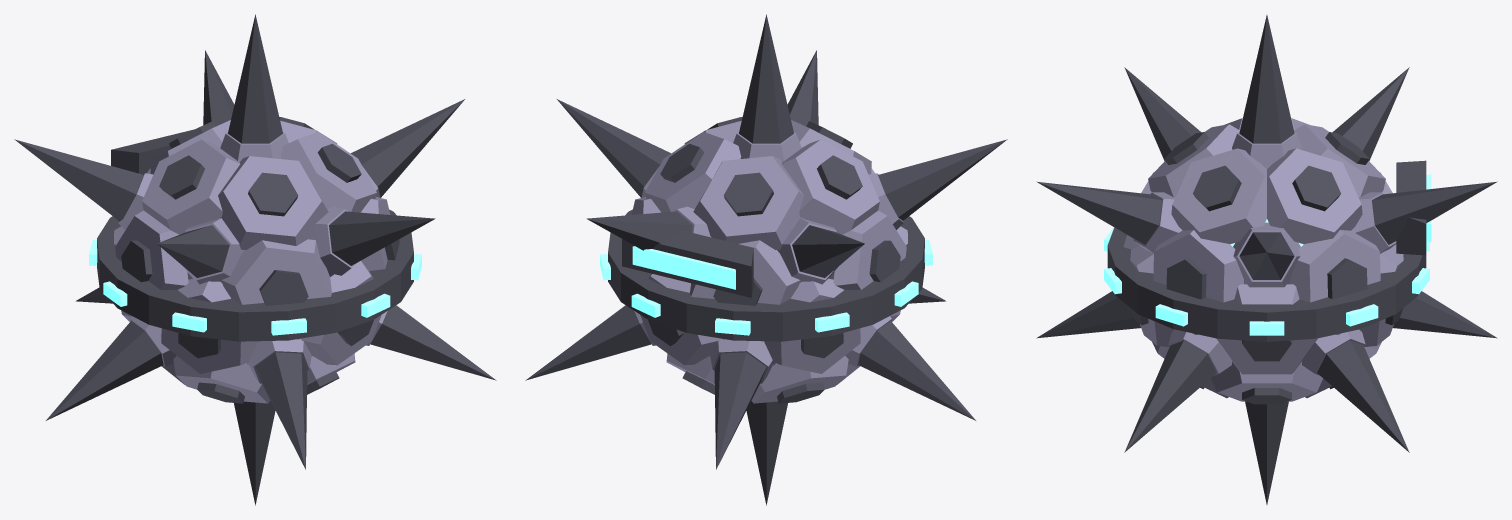
The model's file is titan.glb.
The picture shows the model from 3 angles, left to right: view 1: azimuth 30°, elevation 25°; view 2: azimuth 150°, elevation 25°; view 3: azimuth 270°, elevation 25°; orthographic projection.
Parts seen in each view (by area): view 1: Titan; view 2: Titan; view 3: Titan.
Boxes of the visible parts, x1,y1,x2,y2 form: Titan: (14,14,496,505); Titan: (525,14,1007,505); Titan: (1036,15,1497,504).
Bounding box in the file's own units: 1.95 × 2.18 × 1.85.
